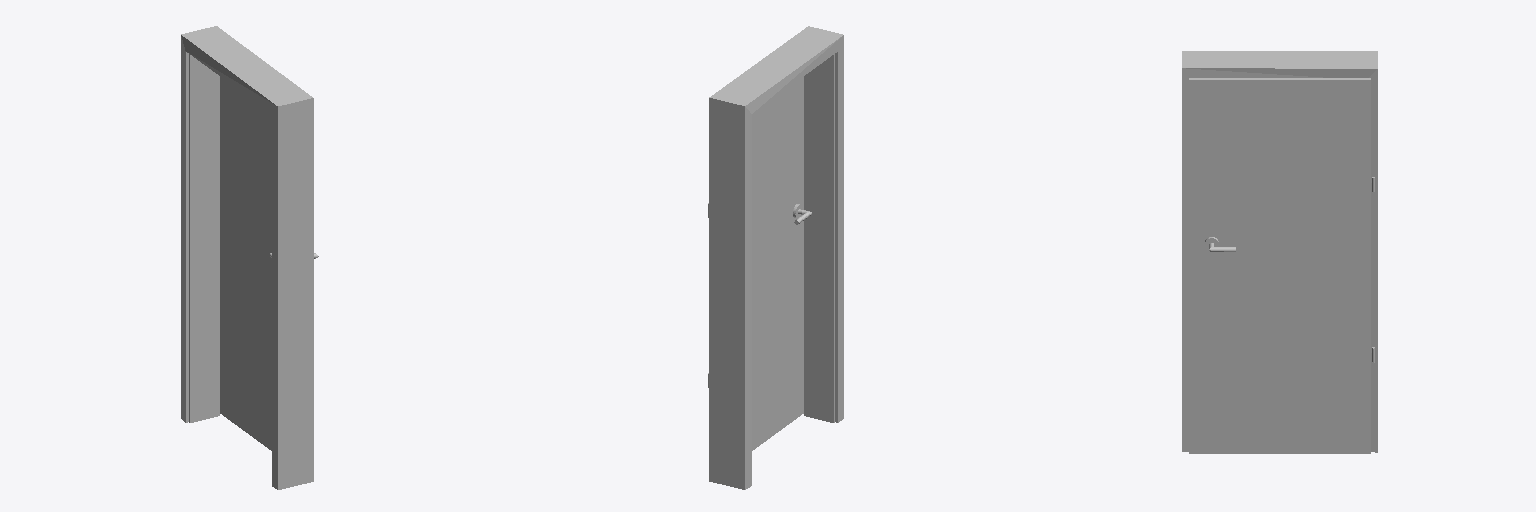
File: door114.obj
3 views of the same model, side by side, from view 1: azimuth 30°, elevation 25°; view 2: azimuth 150°, elevation 25°; view 3: azimuth 270°, elevation 25° (orthographic).
Parts seen in each view (by area): view 1: Cylinder.005, Cylinder.001; view 2: Cylinder.005, Cylinder.001; view 3: Cylinder.001, Cylinder.005.
Part boxes in pixels (x1,y1,x2,y2): Cylinder.005: (181,26,313,489); Cylinder.001: (220,77,271,450); Cylinder.005: (708,26,843,489); Cylinder.001: (708,77,803,450); Cylinder.001: (1189,78,1374,453); Cylinder.005: (1182,51,1377,452).
Bounding box in the file's own units: 0.3039 × 2.05 × 0.95.